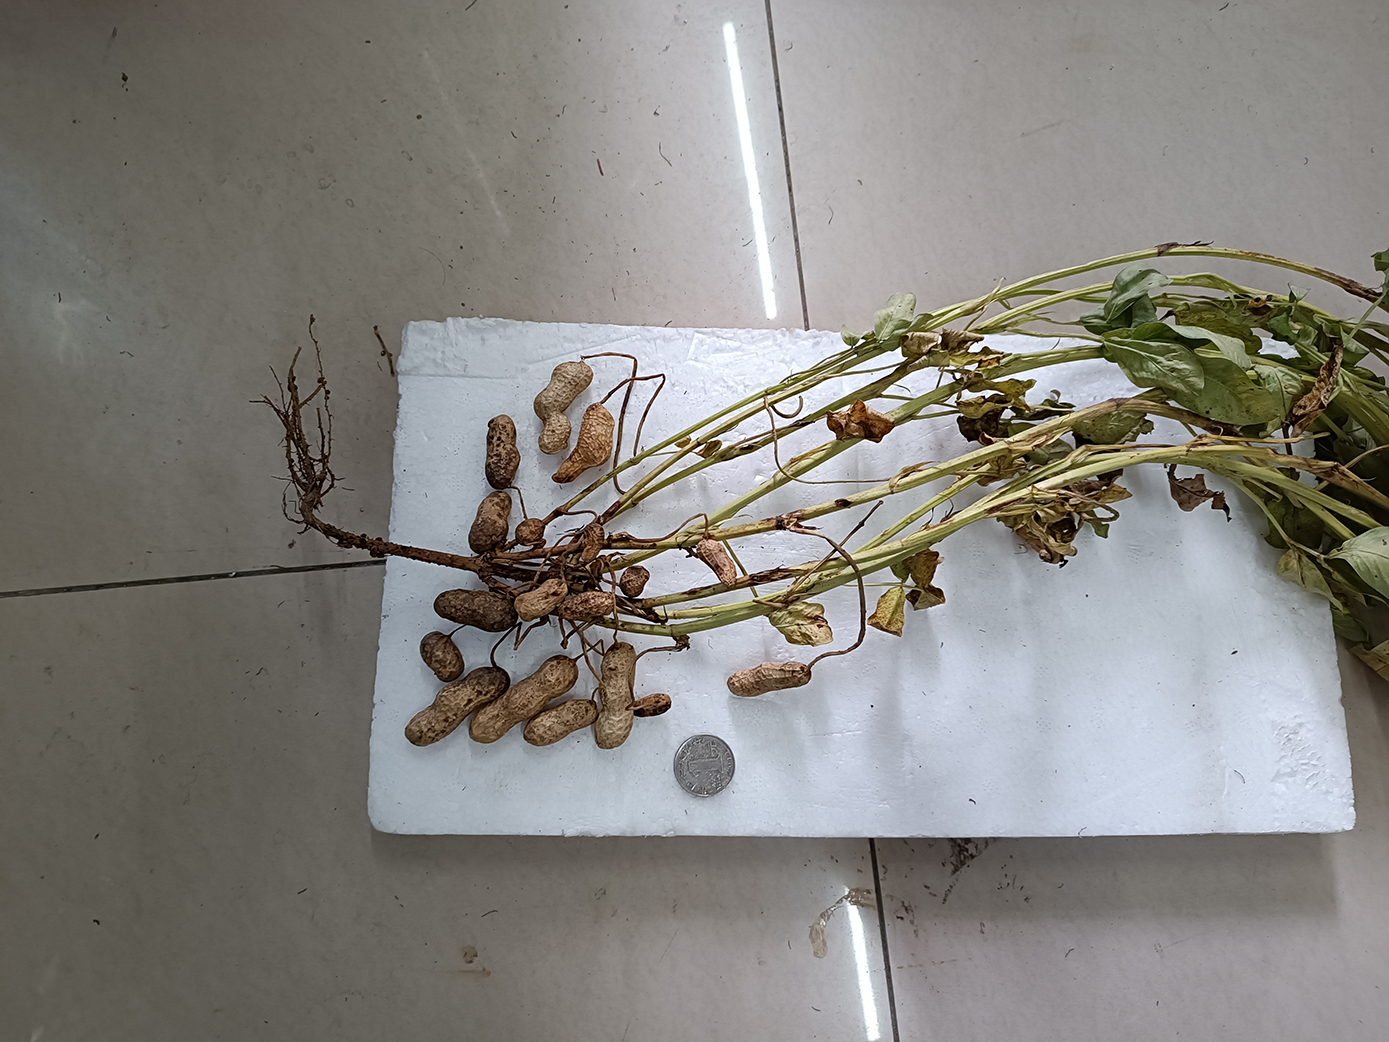h: (468, 657, 582, 744), (405, 667, 510, 746), (534, 362, 593, 455), (549, 402, 616, 484), (594, 642, 639, 749), (521, 701, 599, 746), (724, 661, 812, 696), (467, 490, 512, 554), (486, 415, 522, 488), (512, 578, 567, 620), (698, 539, 736, 588), (559, 591, 615, 618), (579, 522, 605, 563), (633, 693, 673, 717), (620, 567, 650, 598), (516, 518, 544, 547)
l: (432, 590, 516, 632), (419, 633, 464, 680)
